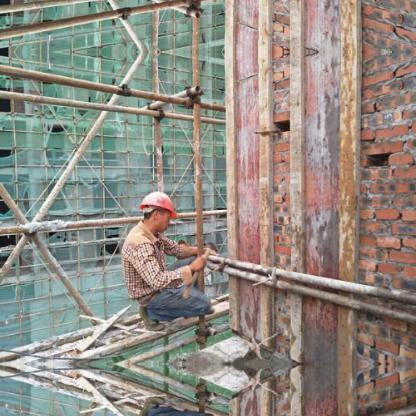helmet: (135, 191, 185, 222)
